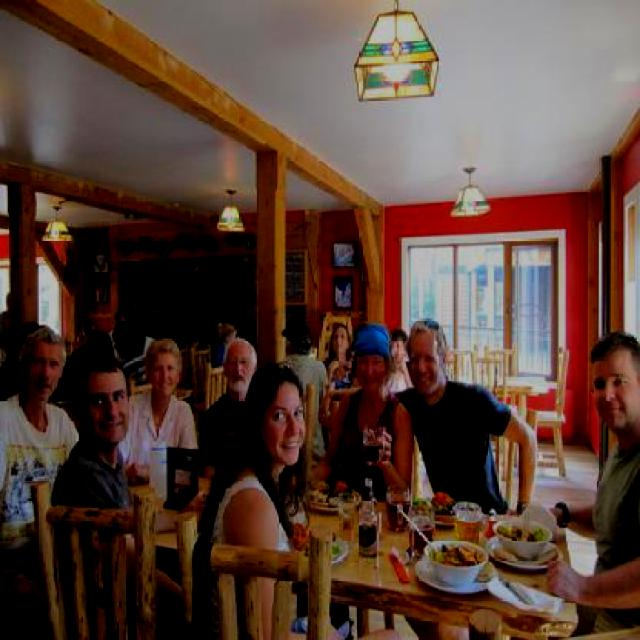Person: (198, 363, 400, 640), (316, 318, 536, 518), (50, 354, 196, 628), (547, 332, 639, 632), (1, 326, 79, 638), (310, 326, 414, 488), (118, 338, 200, 489), (199, 340, 256, 480), (280, 322, 328, 466), (322, 326, 356, 390), (381, 332, 410, 396), (114, 318, 146, 366), (211, 322, 237, 374)
